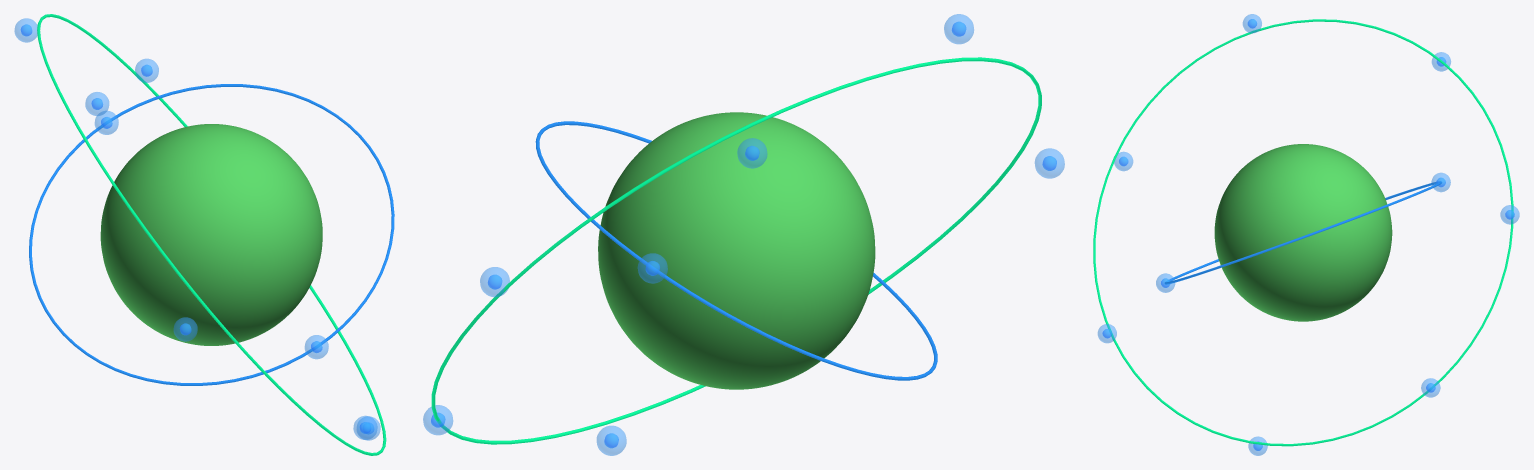
The picture shows the model from 3 angles, left to right: view 1: azimuth 30°, elevation 25°; view 2: azimuth 150°, elevation 25°; view 3: azimuth 270°, elevation 25°; orthographic projection. The views are drawn at different scales.
Visible parts, largest first — view 1: F, object 2, object 7, object 20, object 3, object 18, object 8, object 14, object 16, object 5; view 2: F, object 7, object 2, object 16, object 10, object 20, object 5, object 18, object 14, object 12; view 3: F, object 7, object 2.
Boxes of the visible parts, box(x1,y1,x2,y2) form: F: box(100, 124, 322, 345); object 2: box(29, 84, 394, 385); object 7: box(37, 14, 386, 455); object 20: box(173, 317, 197, 341); object 3: box(304, 335, 328, 359); object 18: box(85, 92, 109, 116); object 8: box(353, 415, 377, 439); object 14: box(135, 58, 158, 82); object 16: box(14, 18, 37, 42); object 5: box(94, 111, 118, 134); F: box(598, 112, 875, 389); object 7: box(431, 57, 1041, 444); object 2: box(535, 121, 937, 380); object 16: box(737, 138, 767, 168); object 10: box(596, 425, 626, 455); object 20: box(1034, 148, 1064, 178); object 5: box(637, 253, 667, 283); object 18: box(944, 14, 973, 44); object 14: box(480, 267, 509, 297); object 12: box(423, 405, 453, 435); F: box(1214, 144, 1392, 321); object 7: box(1093, 19, 1513, 446); object 2: box(1164, 181, 1441, 284).
Size of the model in its own units: 2.55 by 3 by 3.49.
